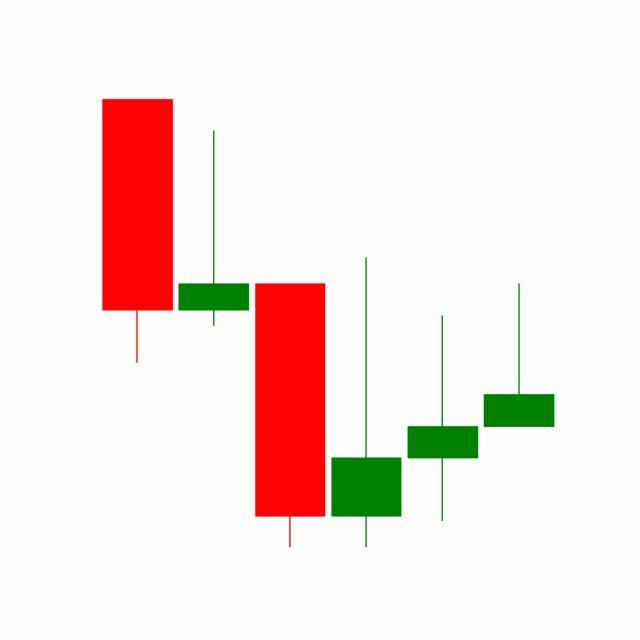Spinning Top: (404, 314, 482, 525)
